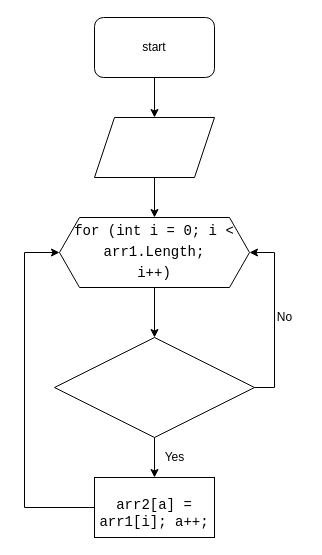
The diagram is 322 pixels wide and 555 high, and some of its shapes have lost their labels. The shapes that lost their labels are listed below. From the top down, each one's centre as x and y in pixels, then its label:
point (154, 147): arr1, arr2, int a = 0
point (154, 387): if(arr1[i].Length <= 3)
